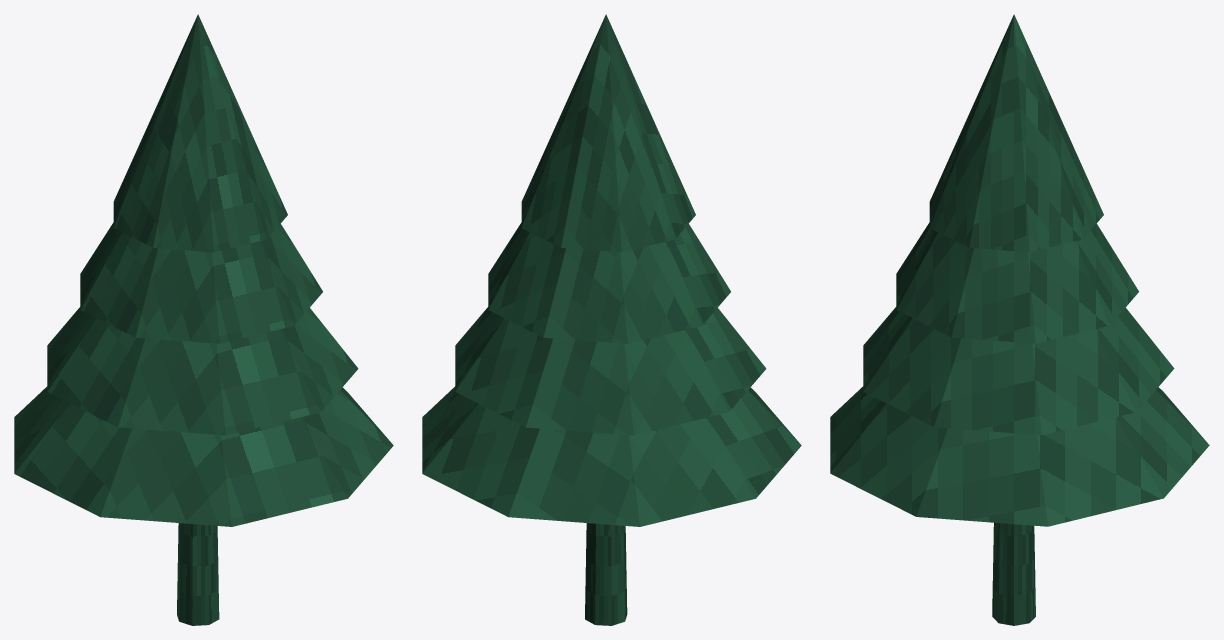
Rendered from pine_61.glb.
The picture shows the model from 3 angles, left to right: view 1: azimuth 30°, elevation 25°; view 2: azimuth 150°, elevation 25°; view 3: azimuth 270°, elevation 25°; orthographic projection.
Parts seen in each view (by area): view 1: Needles, Needles.001, Needles.003, Needles.002, Trunk; view 2: Needles, Needles.001, Needles.003, Needles.002, Trunk; view 3: Needles, Needles.001, Needles.003, Needles.002, Trunk.
Boxes of the visible parts, x1,y1,x2,y2 form: Needles: (14, 386, 393, 526); Needles.001: (47, 307, 358, 435); Needles.003: (113, 14, 287, 252); Needles.002: (80, 222, 322, 343); Trunk: (177, 523, 219, 625); Needles: (422, 386, 801, 526); Needles.001: (455, 307, 766, 435); Needles.003: (521, 14, 695, 252); Needles.002: (488, 222, 730, 343); Trunk: (585, 523, 627, 625); Needles: (830, 386, 1209, 526); Needles.001: (863, 307, 1174, 435); Needles.003: (929, 14, 1103, 252); Needles.002: (896, 222, 1138, 343); Trunk: (992, 522, 1035, 625).
Bounding box in the file's own units: 3.51 × 6.06 × 3.46.
Materials: 1 (1 with a texture image).
